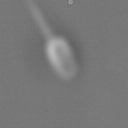normal: (18, 1, 56, 39)
